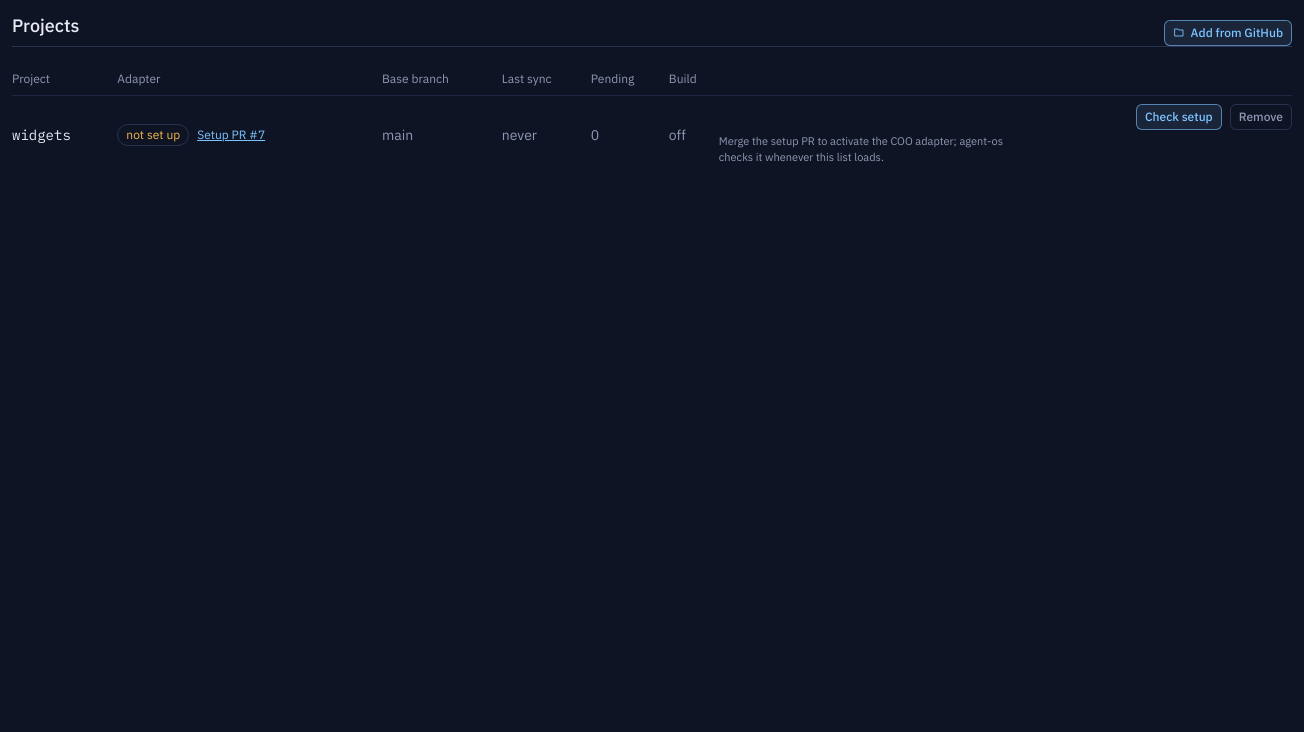
ProjectsPanel setup state › shows a pending project with its setup PR and a check button, no sync
Expected: the text "widgets" is shown, [12,96,117,173]
Expected: the text "not set up" is shown, [117,124,189,146]
What coordinates should you click on to do the following:
click the button "Check setup"
I would click on:
 (1179, 117)
Its box is [1136,104,1222,130].
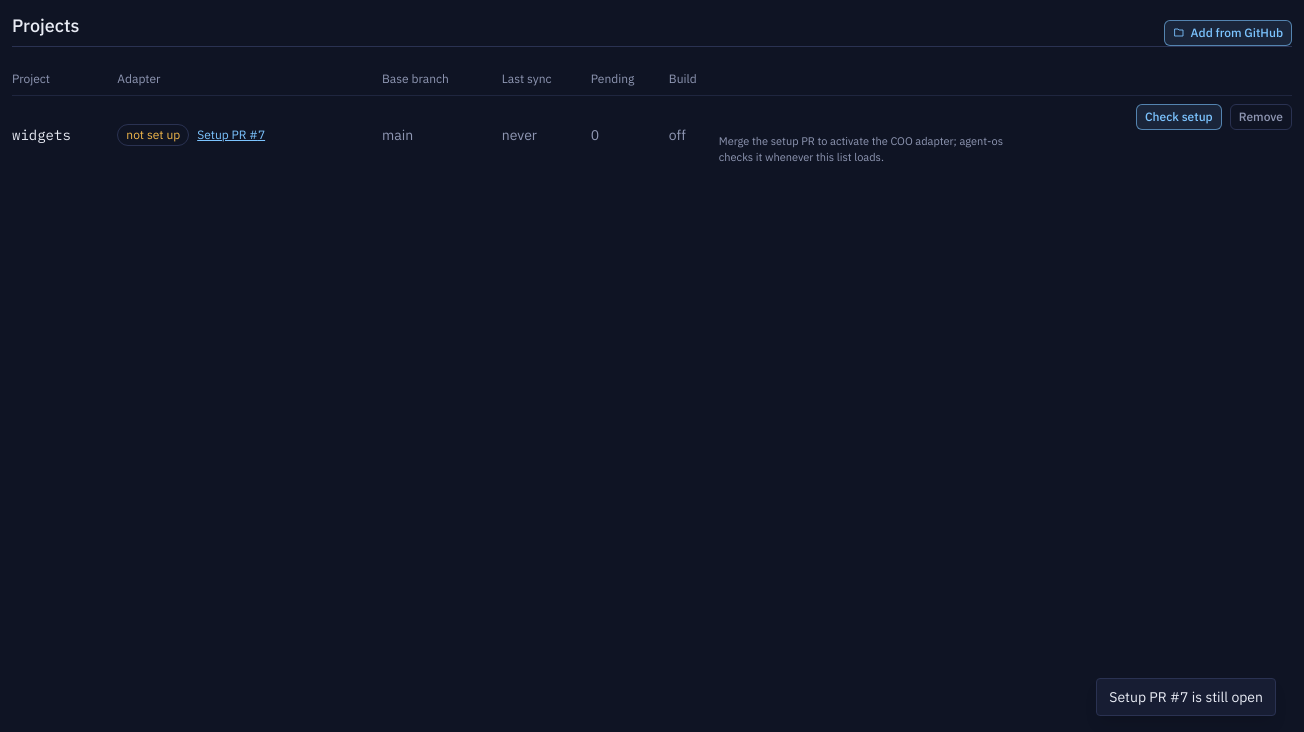
Expected: the text "Setup PR #7 is still open" is shown, [1096,678,1276,716]
